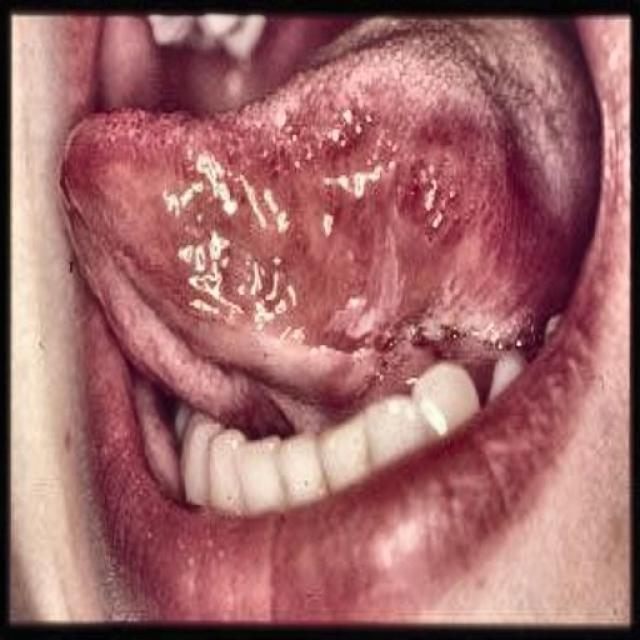cancer-detection: (169, 101, 536, 438)
processing_area: (61, 16, 601, 438)
